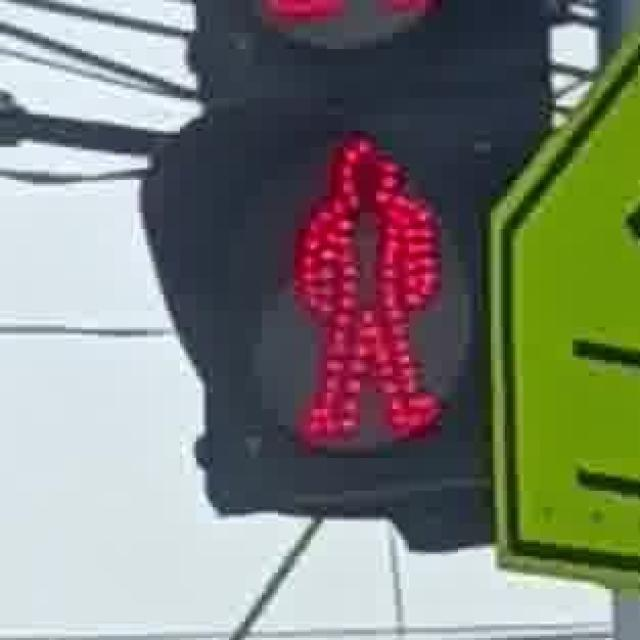red-crossing: (250, 108, 462, 460)
